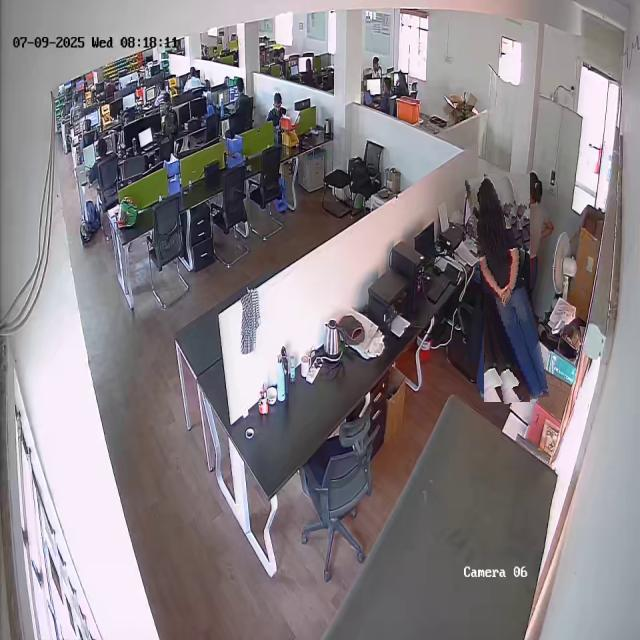person: (475, 174, 540, 404), (264, 91, 288, 130)
